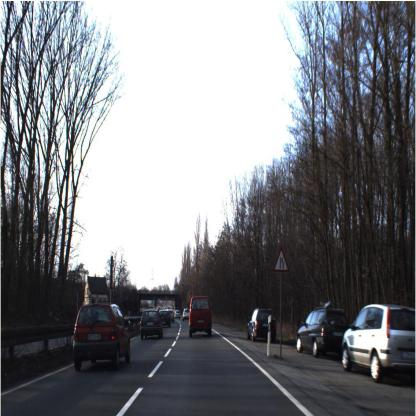danger: (271, 246, 291, 277)
